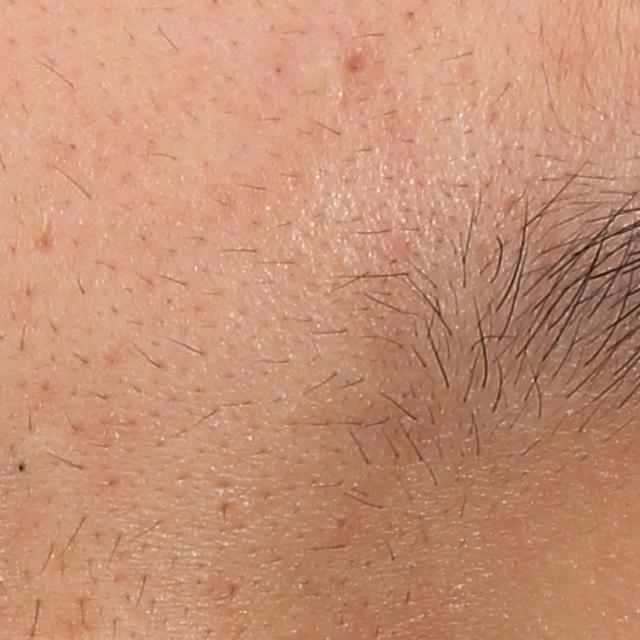atrophic_scar: (33, 216, 55, 256), (343, 50, 371, 77)
comedo: (333, 515, 350, 532)
